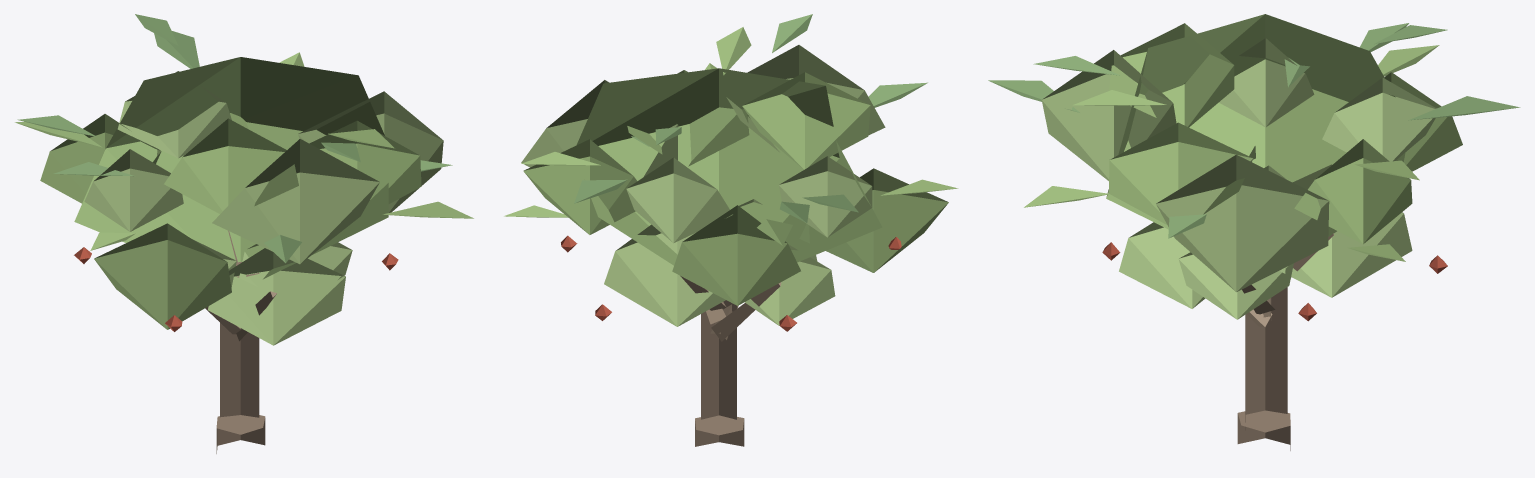
File: shu.wujiaofeng@fruiting__spring.glb
The picture shows the model from 3 angles, left to right: view 1: azimuth 30°, elevation 25°; view 2: azimuth 150°, elevation 25°; view 3: azimuth 270°, elevation 25°; orthographic projection. The views are drawn at different scales.
Visible parts, largest first — view 1: shu.wujiaofeng@fruiting__spring; view 2: shu.wujiaofeng@fruiting__spring; view 3: shu.wujiaofeng@fruiting__spring.
Part boxes in pixels (x1,y1,x2,y2): shu.wujiaofeng@fruiting__spring: [15, 14, 473, 453]; shu.wujiaofeng@fruiting__spring: [504, 14, 958, 446]; shu.wujiaofeng@fruiting__spring: [988, 14, 1520, 450].
Size of the model in its own units: 11.11 by 10.46 by 12.31.
